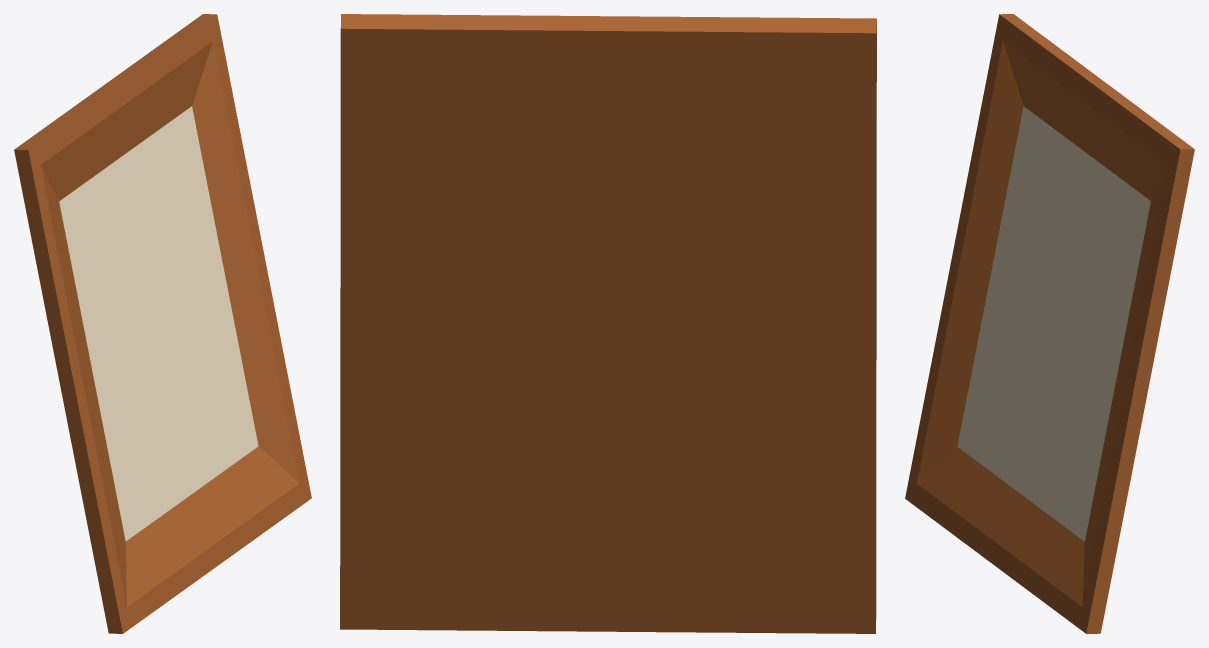
File: MemorialRoom_Picture_frame_medium_3.fbx
3 views of the same model, side by side, from view 1: azimuth 30°, elevation 25°; view 2: azimuth 150°, elevation 25°; view 3: azimuth 270°, elevation 25° (orthographic). The views are drawn at different scales.
Parts seen in each view (by area): view 1: Picture.005; view 2: Picture.005; view 3: Picture.005.
Part boxes in pixels (x1,y1,x2,y2): Picture.005: (14, 14, 311, 633); Picture.005: (340, 14, 876, 633); Picture.005: (905, 14, 1194, 633).
Size of the model in its own units: 628 by 835 by 471.
